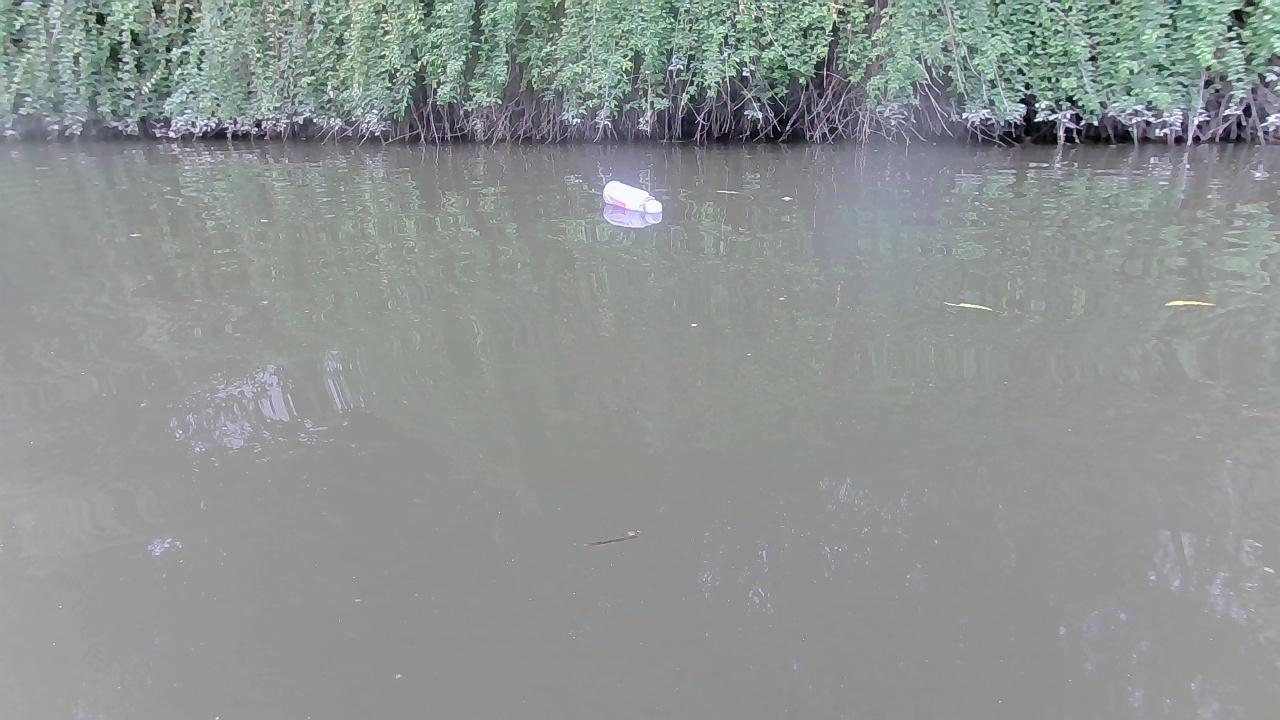bottle: (601, 178, 662, 219)
